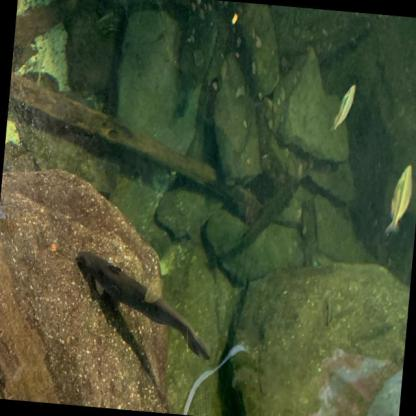fish: (66, 248, 220, 365), (383, 160, 415, 238), (327, 79, 359, 132)
